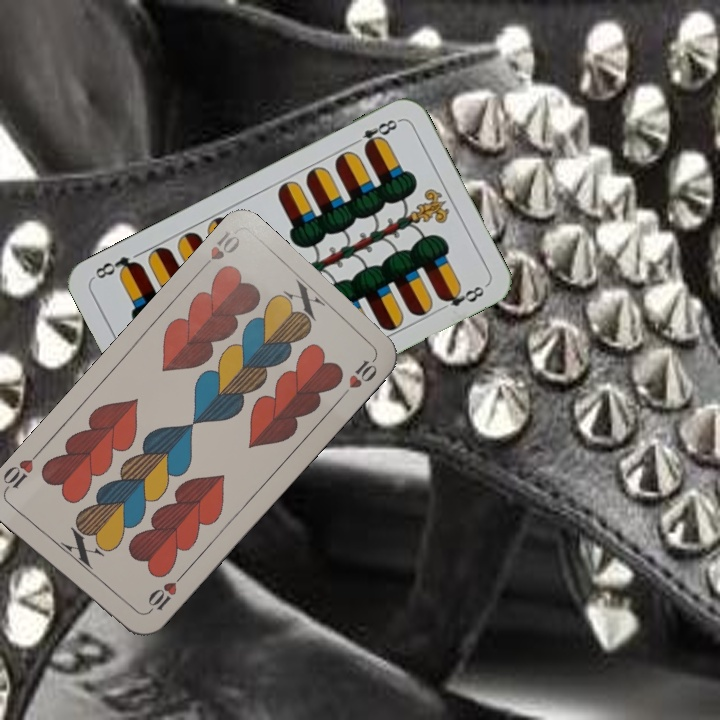E8: (347, 115, 403, 153)
H10: (194, 226, 243, 276), (140, 570, 186, 618)
